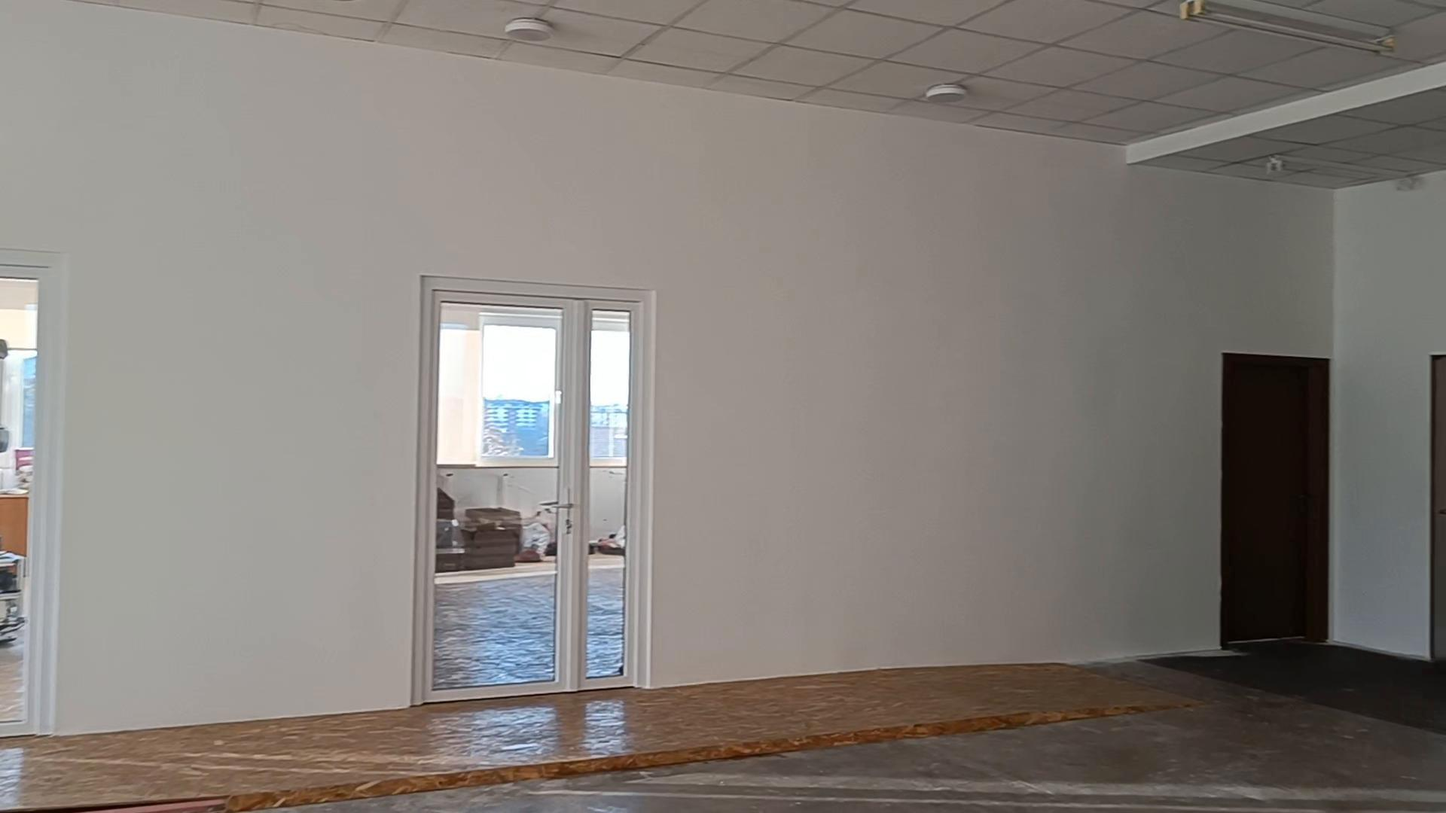ceiling: (79, 0, 1445, 144), (1151, 87, 1445, 187)
floor: (0, 643, 1445, 812)
wall: (0, 3, 1445, 732)
